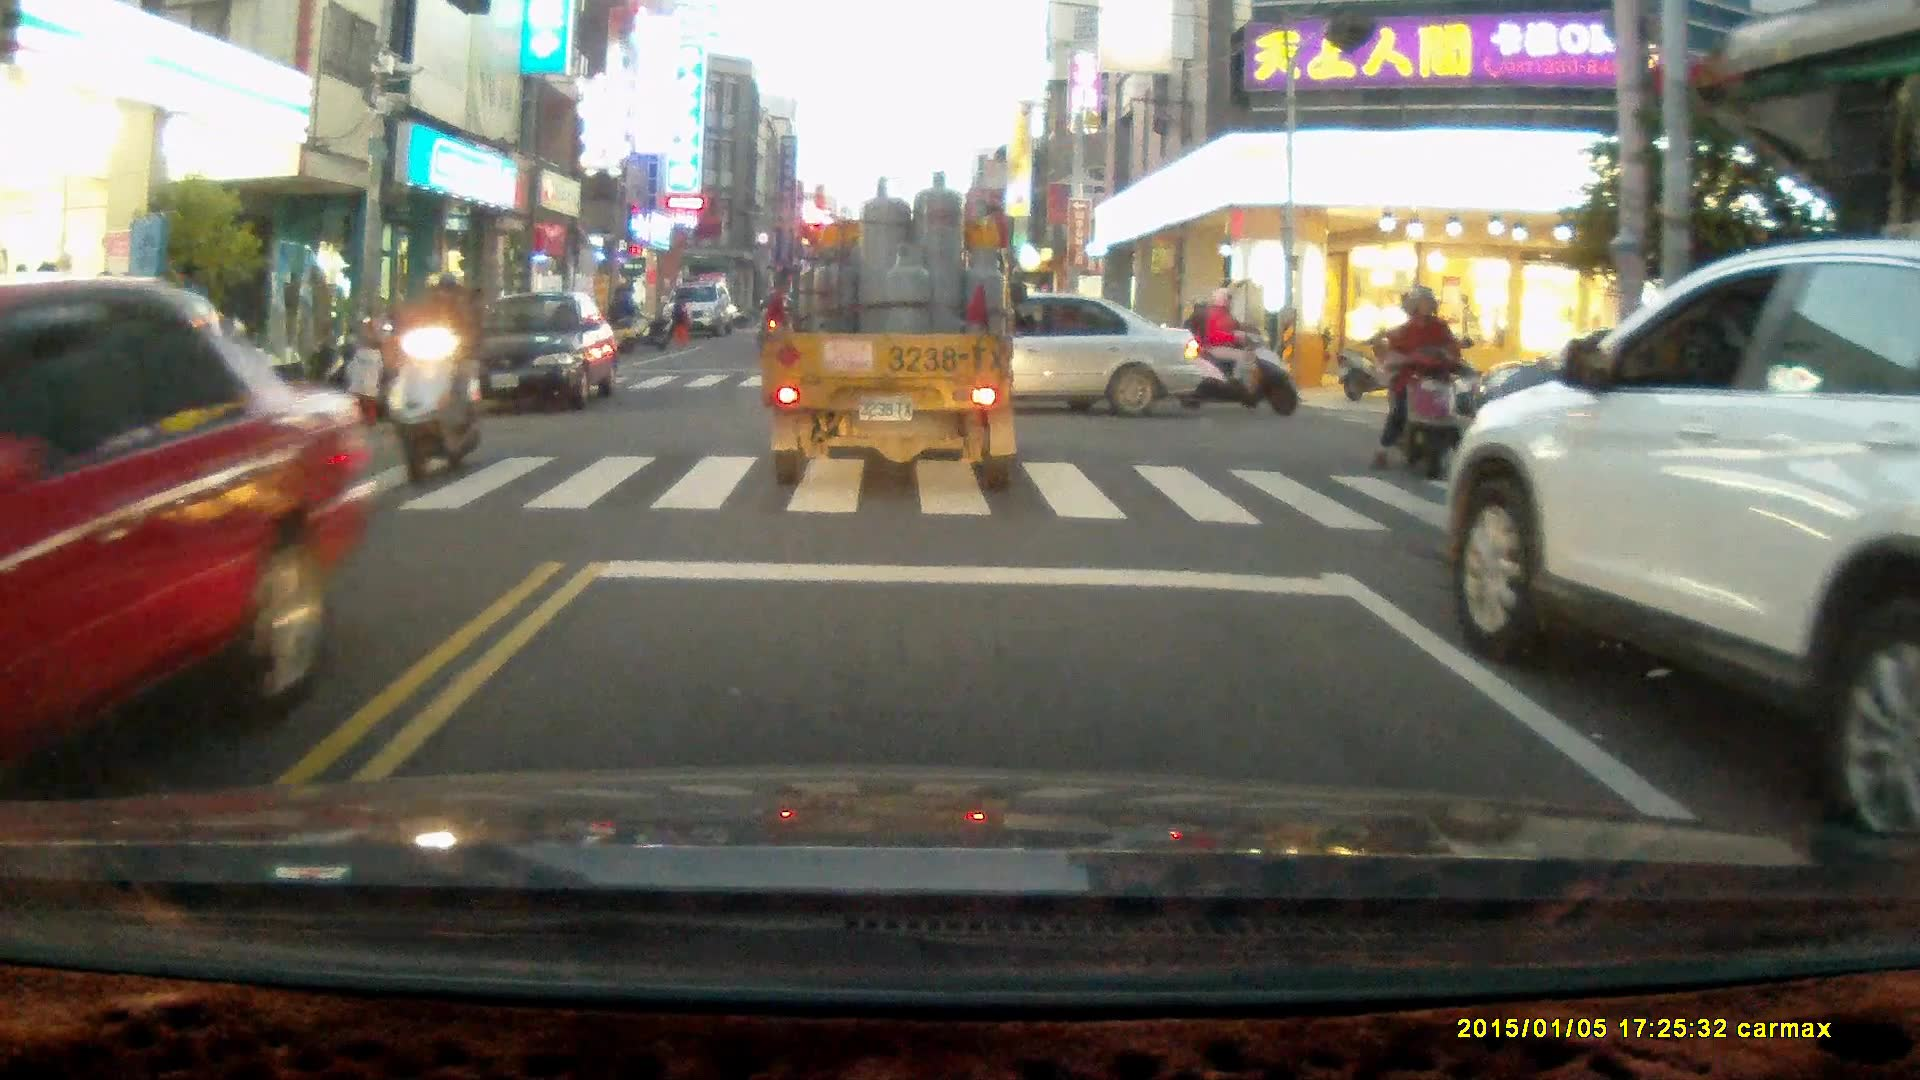pedestrian: (340, 328, 387, 436), (612, 283, 639, 346)
rider: (1365, 285, 1483, 486), (382, 270, 487, 490), (1173, 284, 1300, 412)
vehicle: (1445, 238, 1920, 833), (1, 275, 365, 798), (766, 177, 1026, 497), (832, 290, 1206, 418), (453, 291, 623, 416), (663, 283, 733, 336)
